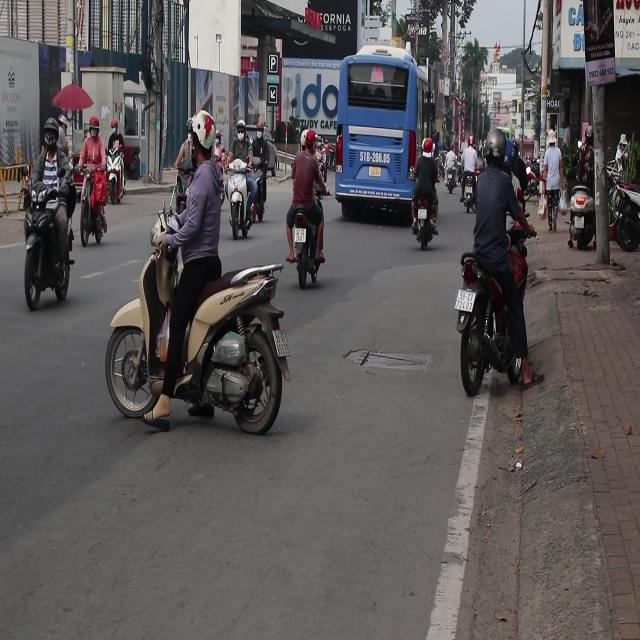bus: (332, 48, 434, 224)
motorbike: (103, 237, 298, 437), (456, 262, 547, 412), (22, 188, 68, 317), (291, 222, 330, 298), (82, 164, 108, 251), (224, 173, 253, 240), (104, 151, 135, 203), (410, 201, 440, 249), (107, 135, 127, 206), (248, 165, 272, 217), (462, 175, 477, 214), (444, 165, 462, 192)
